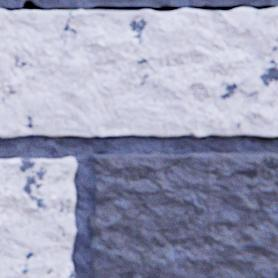brick: (0, 7, 277, 136), (89, 151, 277, 277), (0, 156, 76, 277)
crack: (0, 0, 277, 12)
